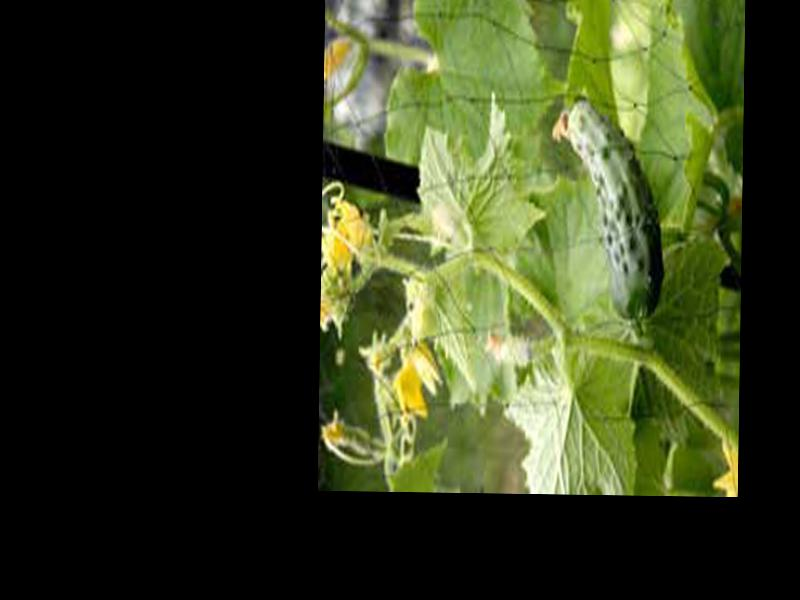Cucumber: (548, 97, 664, 325)
